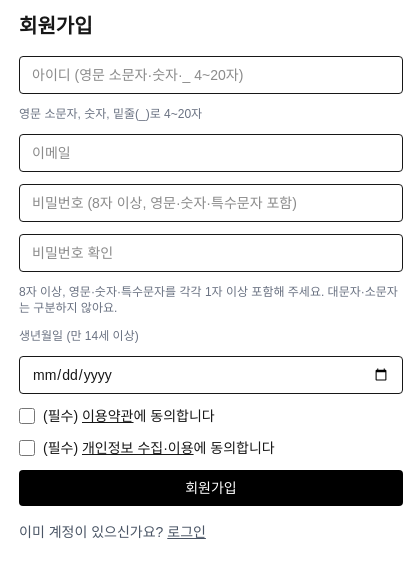
Test: RegisterForm › 실패: 두 동의 모두 체크하지 않으면 role=alert로 안내하고 요청을 보내지 않는다
In the field with placeholder "아이디 (영문 소문자·숫자·_ 4~20자)": (211, 75) [19,56,403,94], type "user_01"
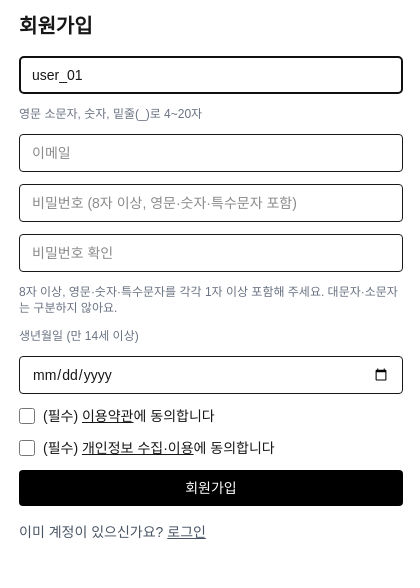
In the field with placeholder "이메일": (211, 153) [19,134,403,172], type "user01@example.com"
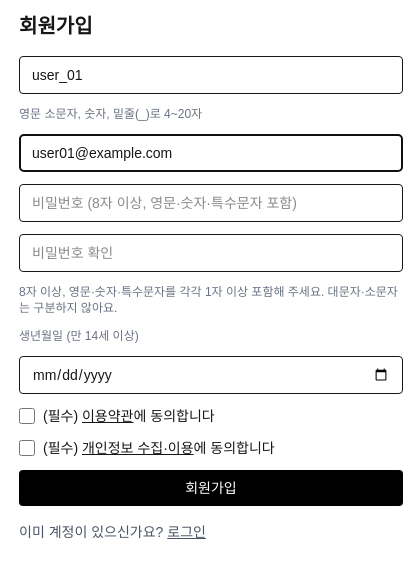
In the password field with placeholder "비밀번호 (8자 이상, 영문·숫자·특수문자 포함)": (211, 203) [19,184,403,222], type "pass1234!"
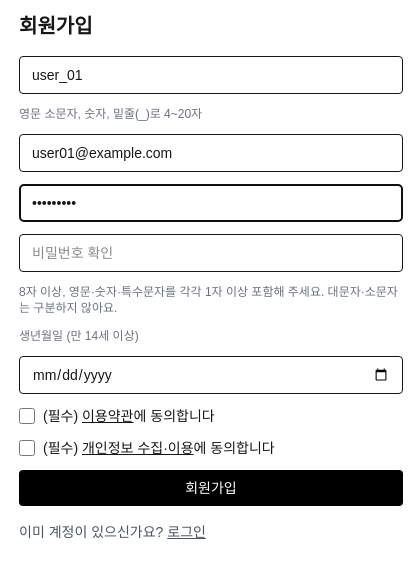
In the password field labelled "비밀번호 확인": (211, 253) [19,234,403,272], type "pass1234!"
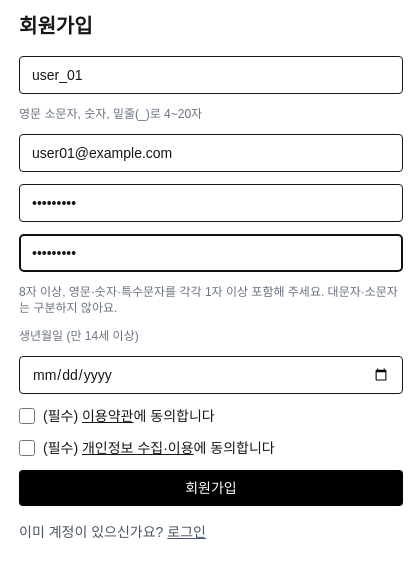
In the date field labelled "생년월일 (만 14세 이상)": (211, 375) [19,356,403,394], type "2000-01-31"
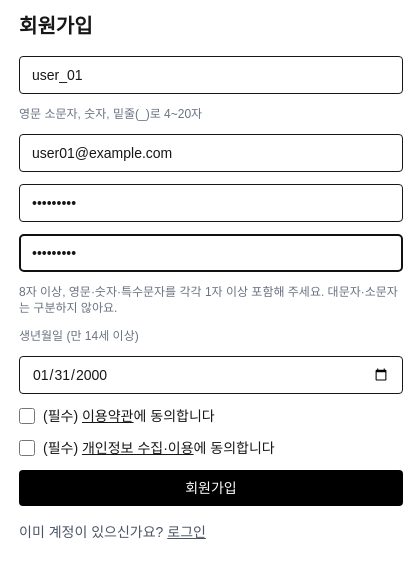
Click the button "회원가입": (211, 488) [19,470,403,506]
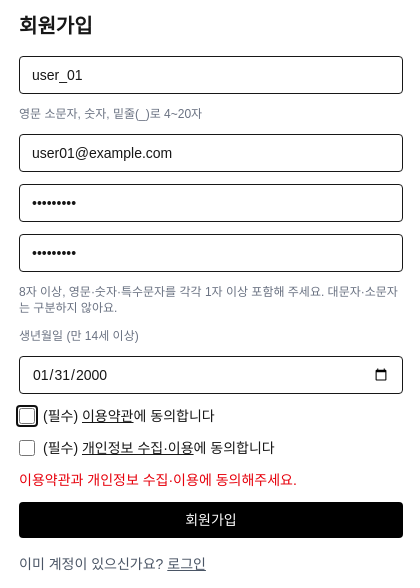
Now the message reads "이용약관과 개인정보 수집·이용에 동의해주세요.", box [19,472,297,488]
